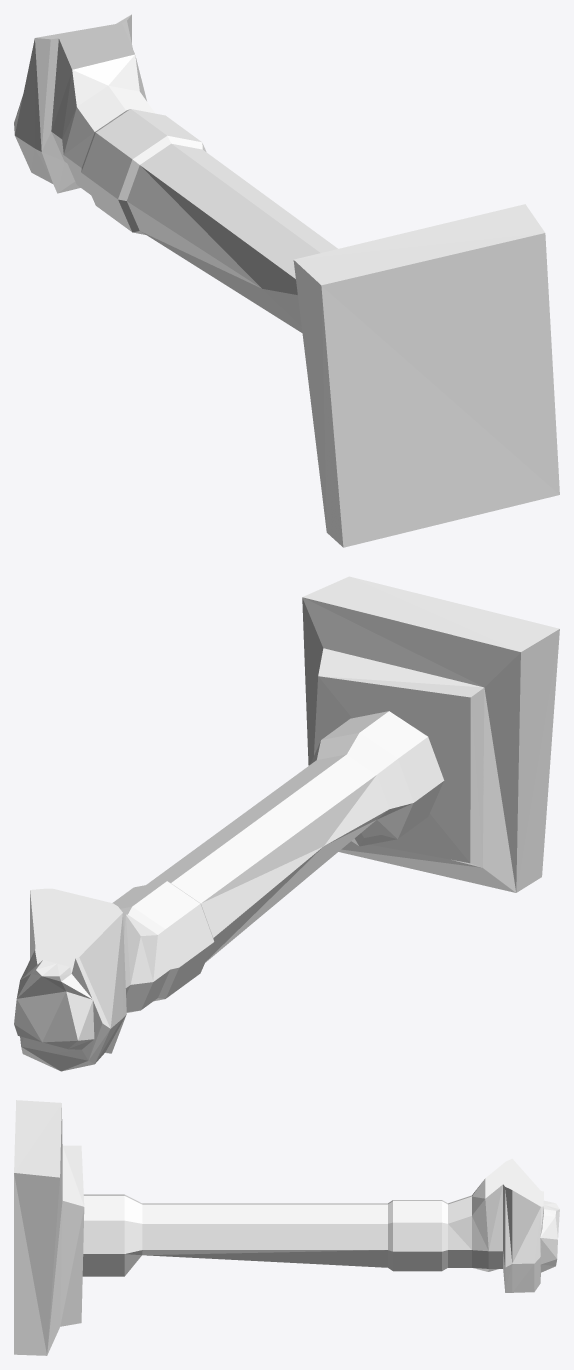
The model's file is venice_col_obj_5.fbx.
3 renders of one model, top to bottom at view 1: azimuth 30°, elevation 25°; view 2: azimuth 150°, elevation 25°; view 3: azimuth 270°, elevation 25°, orthographic. The views are drawn at different scales.
Visible parts, largest first — view 1: Cylinder.043; view 2: Cylinder.043; view 3: Cylinder.043.
Part boxes in pixels (x1,y1,x2,y2): Cylinder.043: (14, 14, 559, 547); Cylinder.043: (14, 576, 559, 1071); Cylinder.043: (14, 1100, 559, 1355).
Bounding box in the file's own units: 447 × 483 × 1336.
